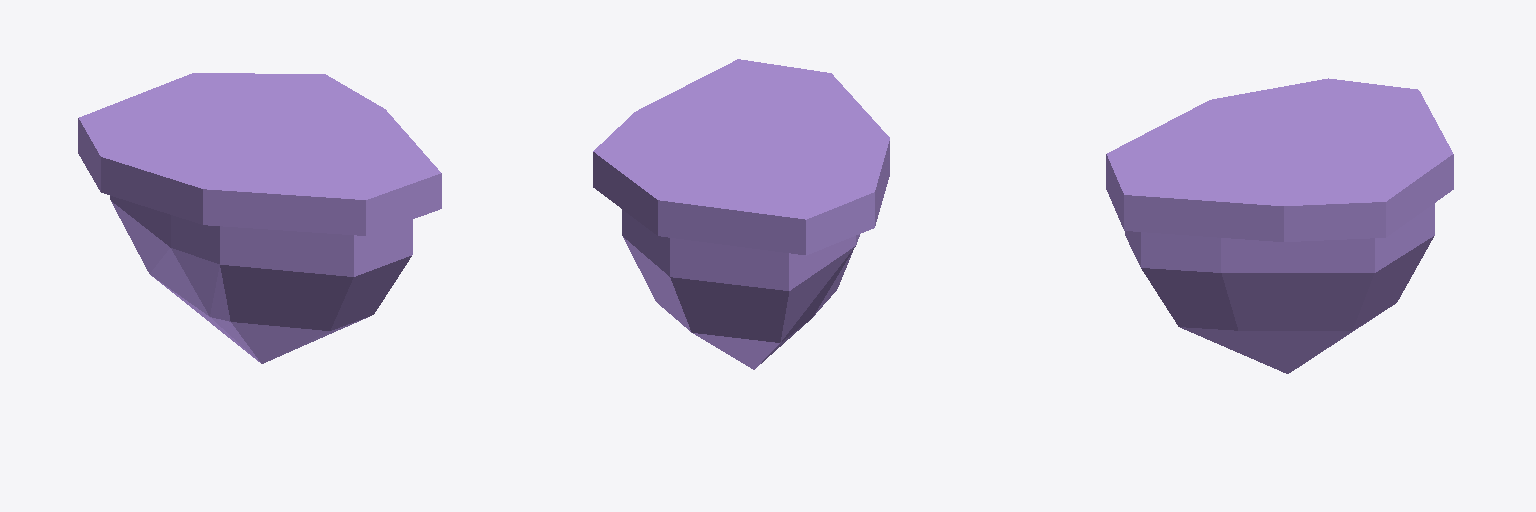
The model's file is land2.obj.
3 renders of one model, left to right at view 1: azimuth 30°, elevation 25°; view 2: azimuth 150°, elevation 25°; view 3: azimuth 270°, elevation 25°, orthographic.
Parts seen in each view (by area): view 1: g2, land2; view 2: g2, land2; view 3: g2, land2.
Part boxes in pixels (left/top/right/bottom): g2: left=78, top=73, right=441, bottom=235; land2: left=110, top=196, right=412, bottom=363; g2: left=593, top=59, right=889, bottom=255; land2: left=622, top=209, right=859, bottom=369; g2: left=1106, top=78, right=1453, bottom=241; land2: left=1125, top=203, right=1434, bottom=373.
Size of the model in its own units: 46.43 by 38.45 by 53.24.